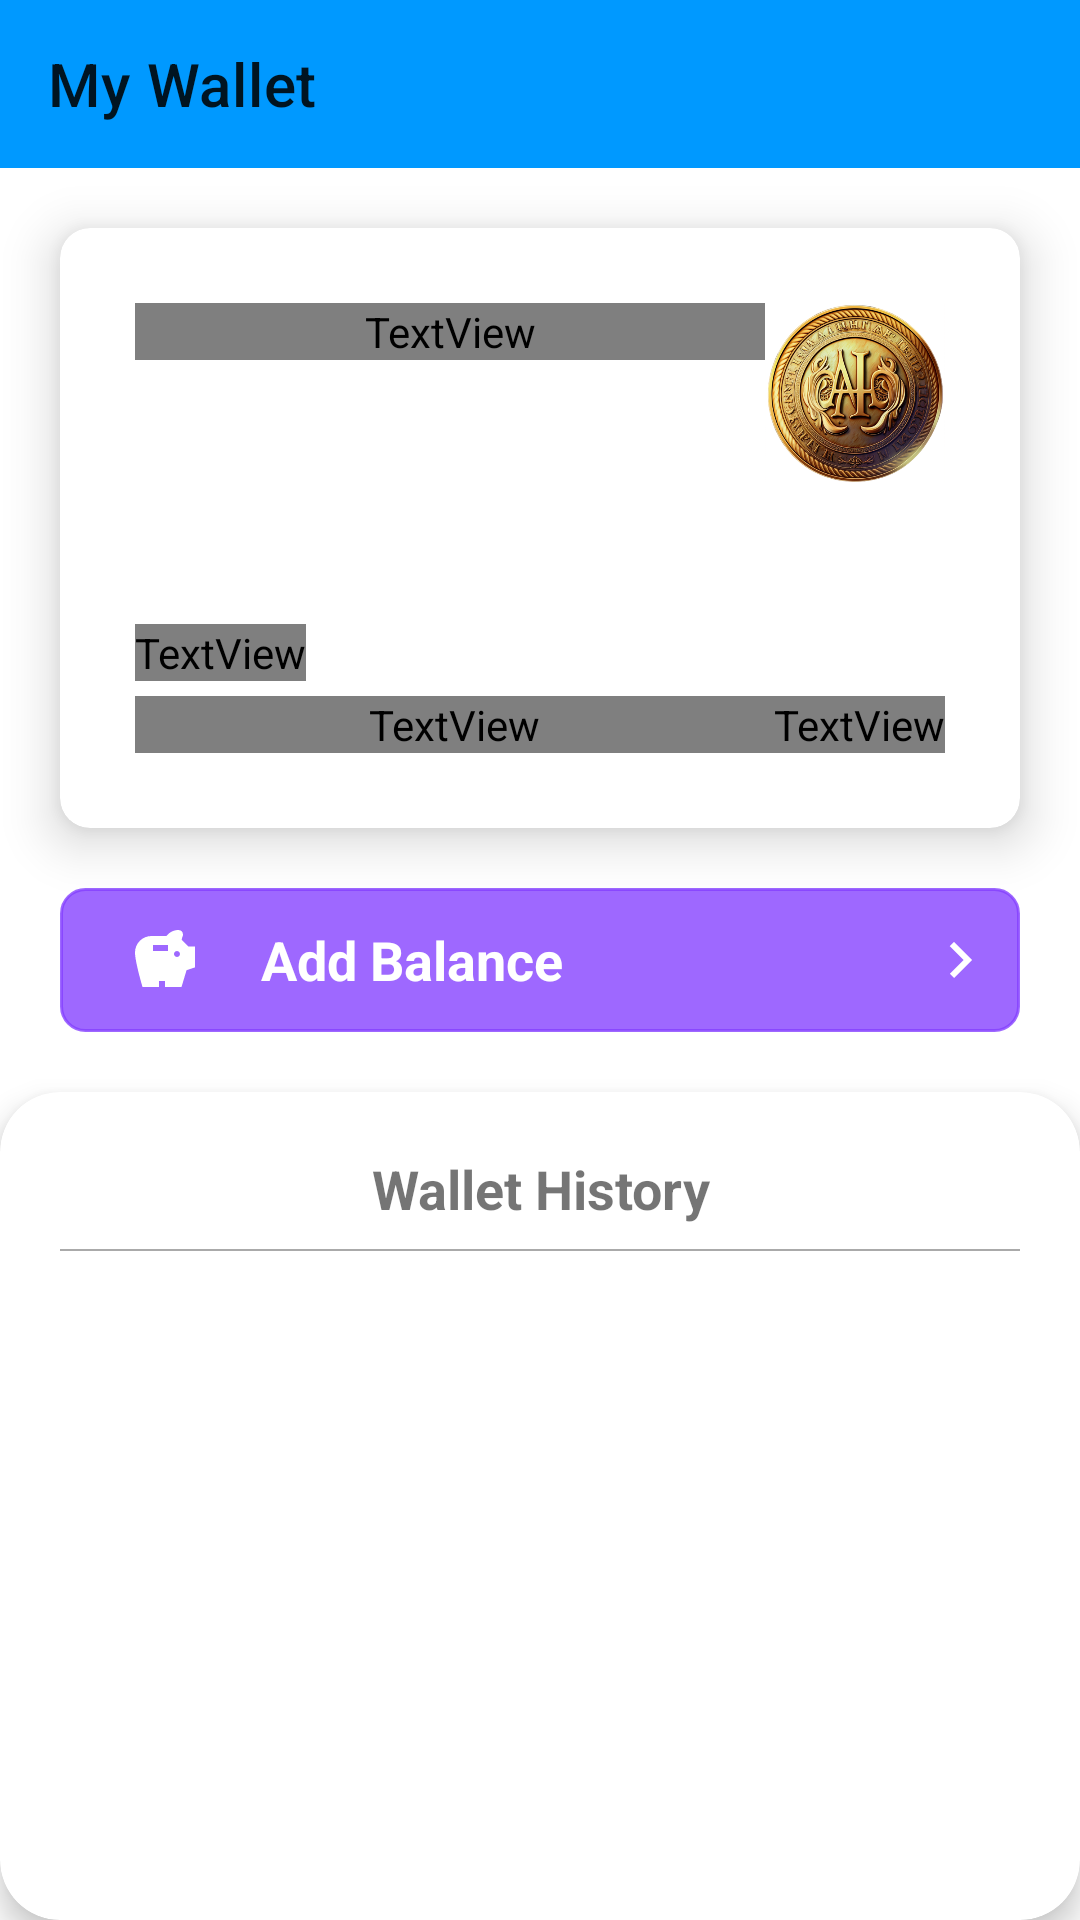

Icons on this 1080px×1920px Android screen, each with its box as (x1, y1, x2, y2):
ah coin: (768, 305, 943, 482)
right: (950, 942, 972, 978)
savings: (135, 930, 195, 987)
